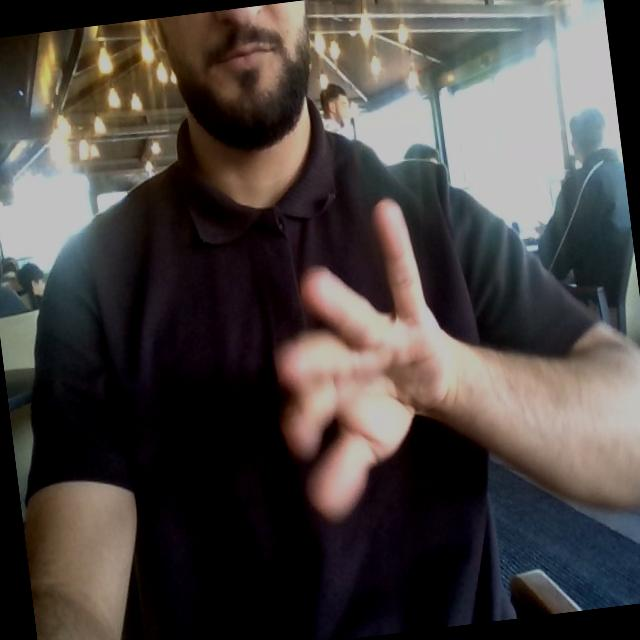Hand: (276, 199, 456, 519)
